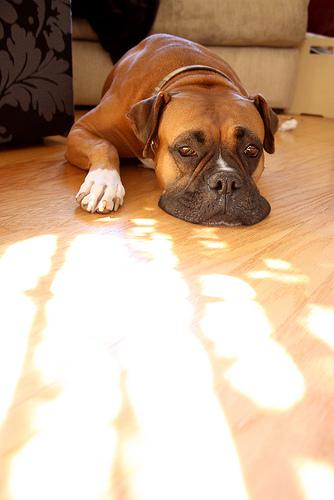dog-boxer: (124, 87, 277, 224)
